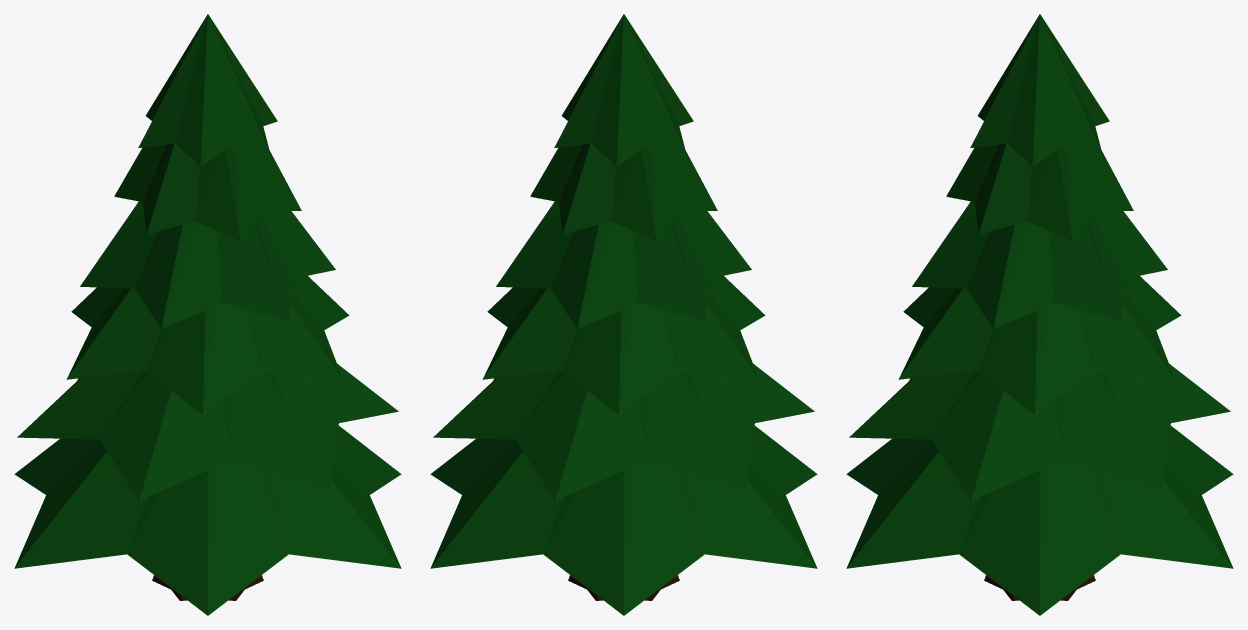
Rendered from pine01.fbx.
3 views of the same model, side by side, from view 1: azimuth 30°, elevation 25°; view 2: azimuth 150°, elevation 25°; view 3: azimuth 270°, elevation 25° (orthographic).
Visible parts, largest first — view 1: Cylinder001; view 2: Cylinder001; view 3: Cylinder001.
Boxes of the visible parts, bbox=[...] form: Cylinder001: bbox=[14, 14, 401, 615]; Cylinder001: bbox=[430, 14, 817, 615]; Cylinder001: bbox=[846, 14, 1233, 615].
Size of the model in its own units: 245 by 212 by 343.
